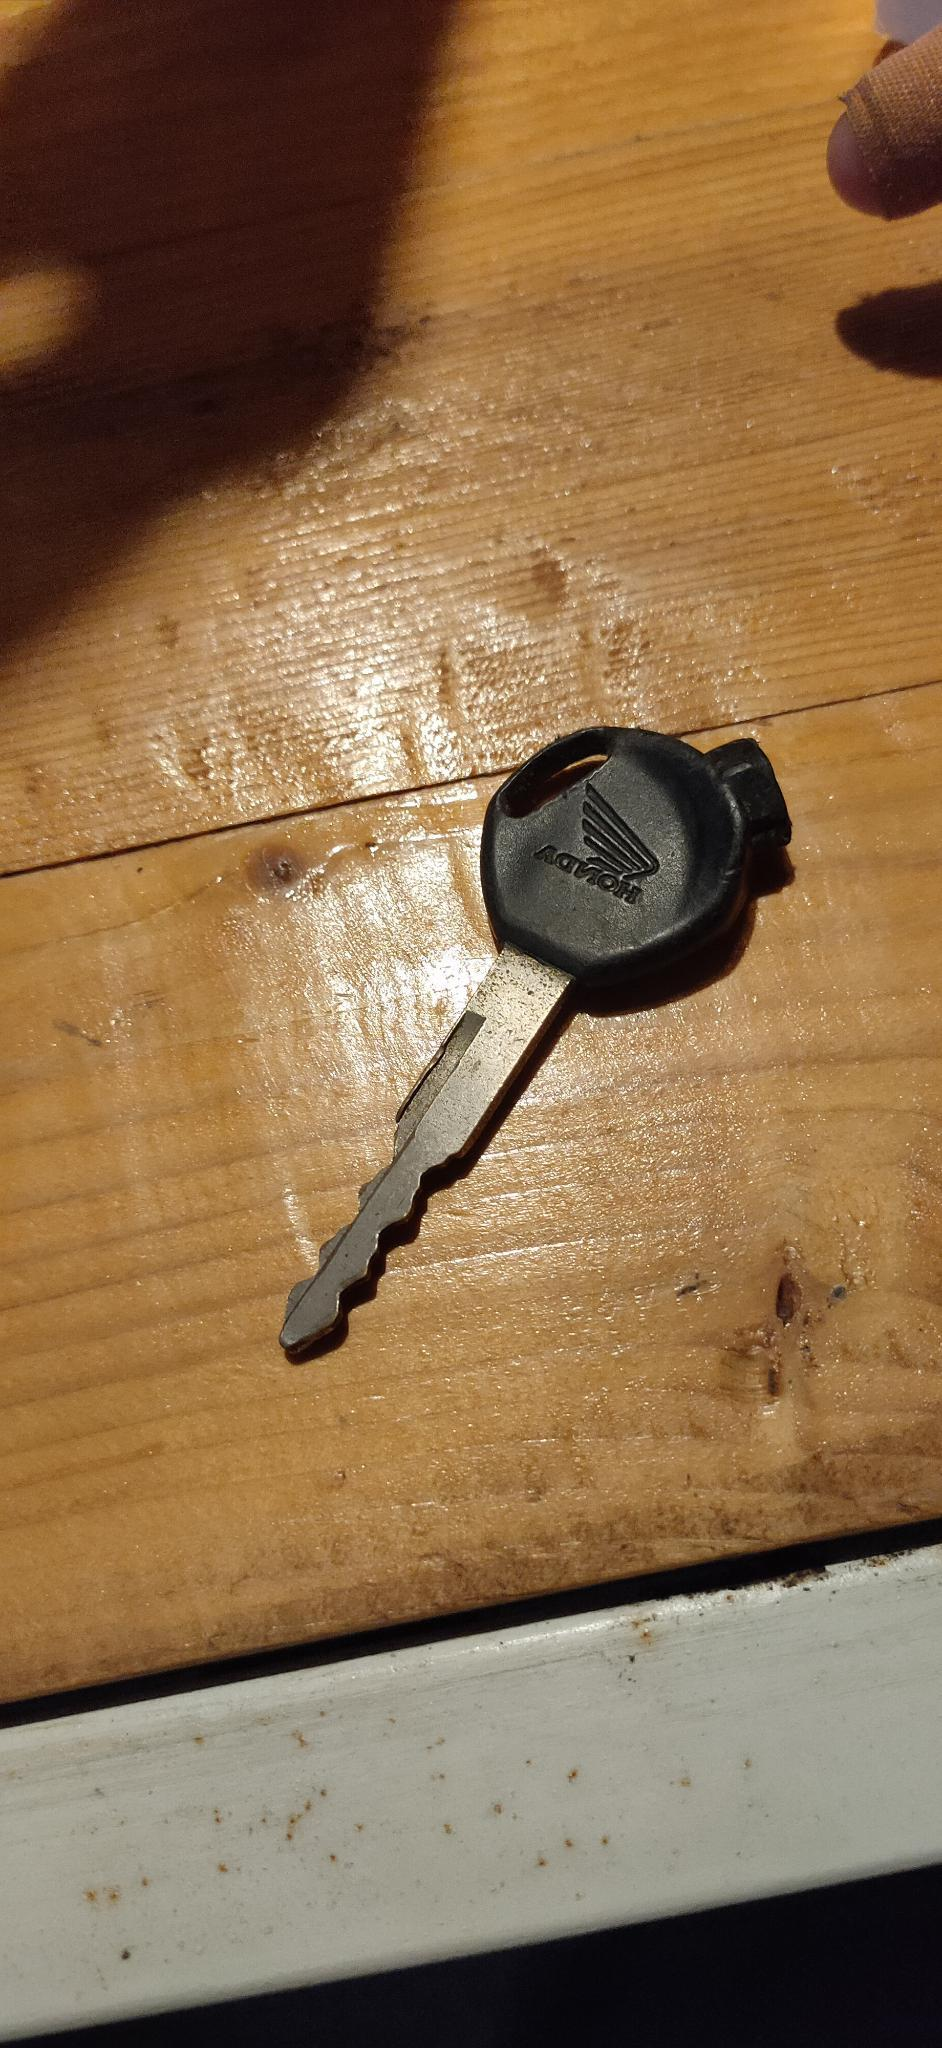keys: (272, 697, 804, 1371)
